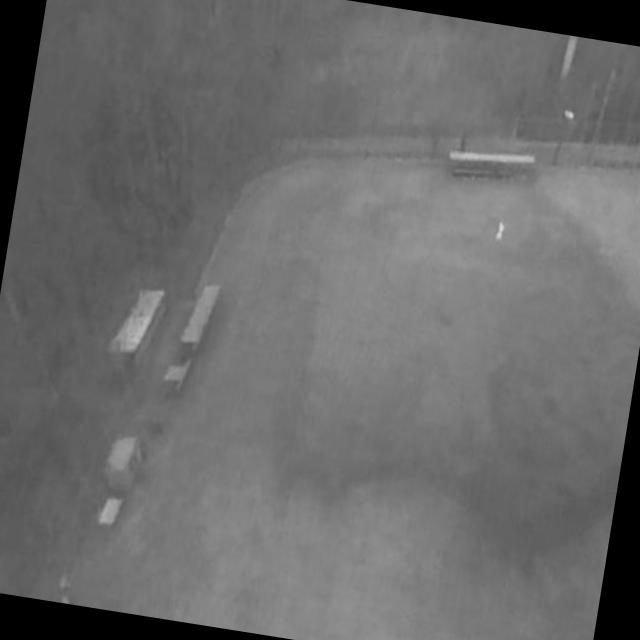person: (495, 222, 506, 243)
